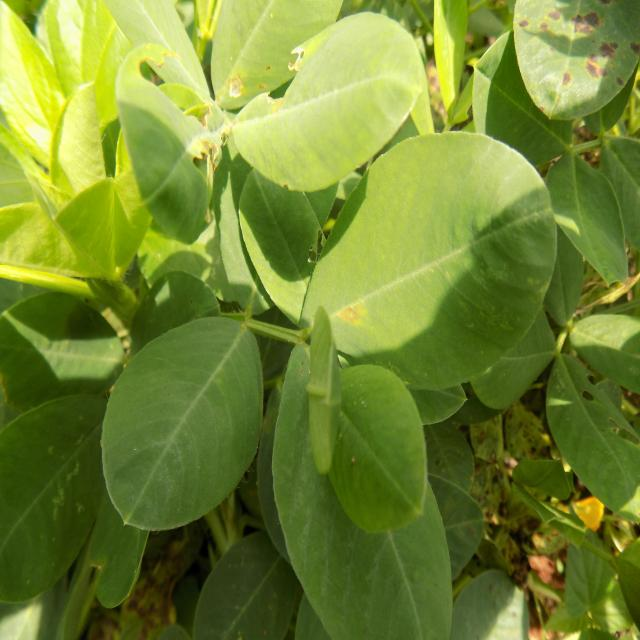Ground nut_healthy: (308, 132, 557, 390), (101, 307, 264, 532), (234, 5, 430, 188), (288, 360, 428, 530)
